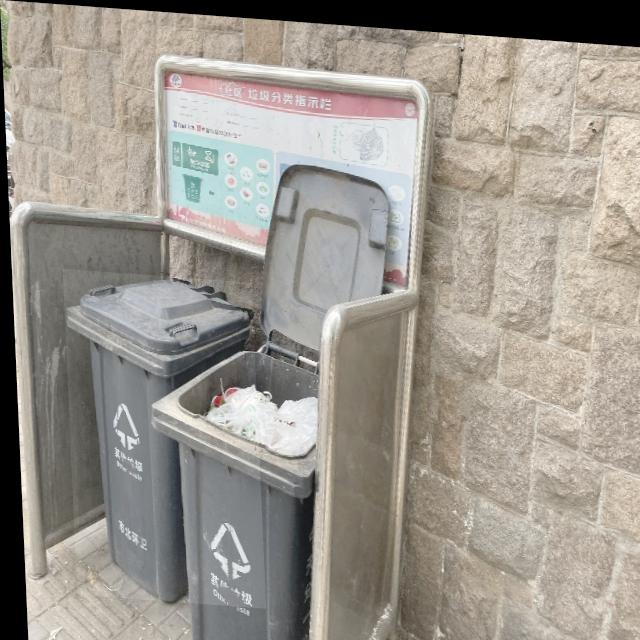garbage_bin: (60, 268, 261, 605)
overflow: (144, 339, 325, 640)
